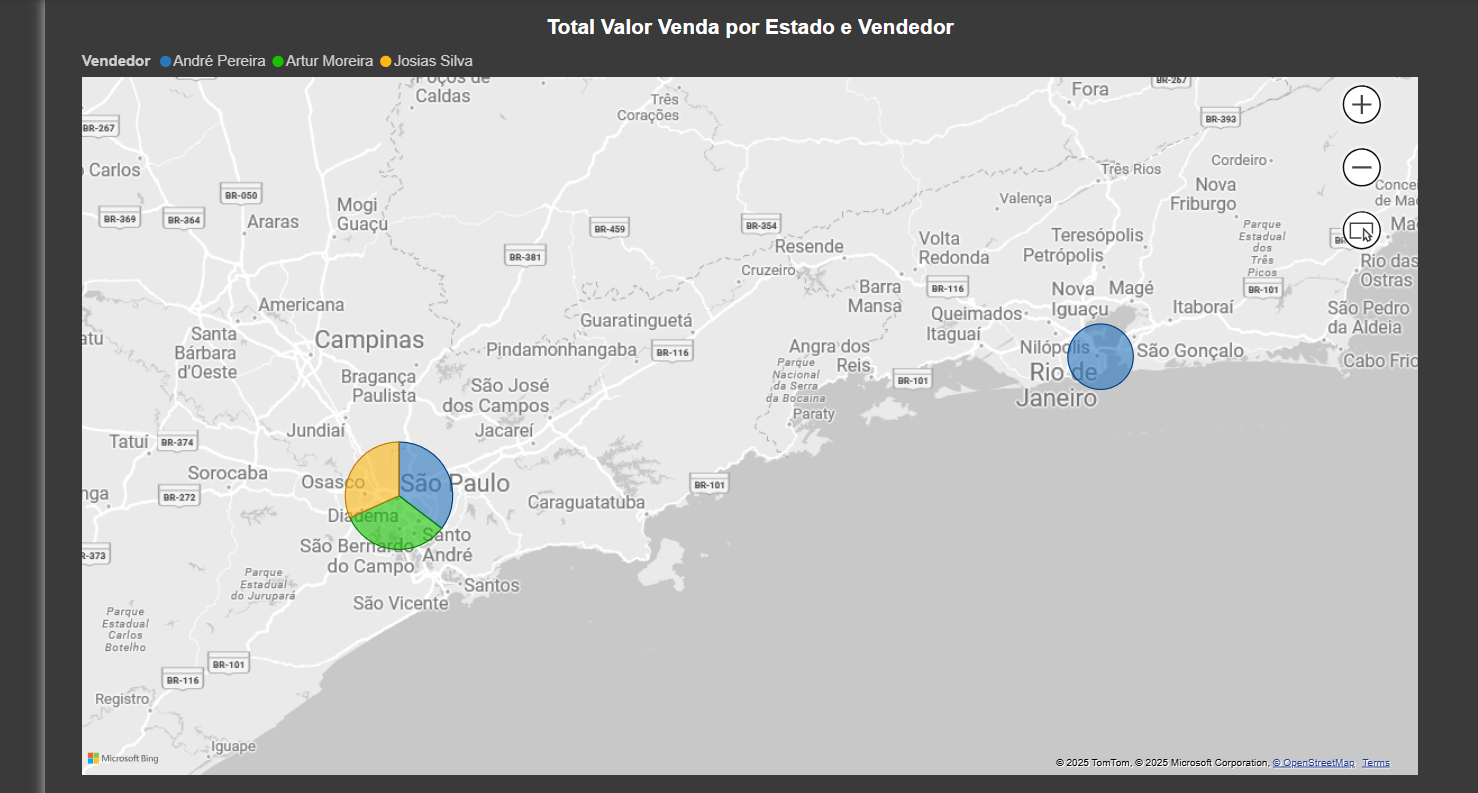

Layout of this report page (visuals, bound fields, positions):
{"tool":"powerbi","page":{"name":"Performance dos Vendedores Por Região","canvas":[1280,720],"ordinal":4},"visuals":[{"type":"map","fields":{"Category":["Vendas.Estado"],"Series":["Vendas.Vendedor"],"Size":["Sum(Vendas.ValorVenda)"]},"box":[27.8,15.6,1200,681.3],"z":0}]}

Visuals, with their boxes on the page's 1280x720 design canvas (x1, y1, x2, y2). These are canvas units, not pixel positions in the 1478x793 screenshot, which may show the page scaled, cropped or inside an application window:
map - Vendas.Estado x Vendas.Vendedor: l=28, t=16, r=1228, b=697
